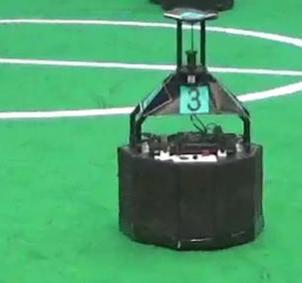robot: (112, 1, 277, 257)
